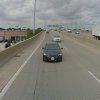Car: (37, 38, 66, 68)
